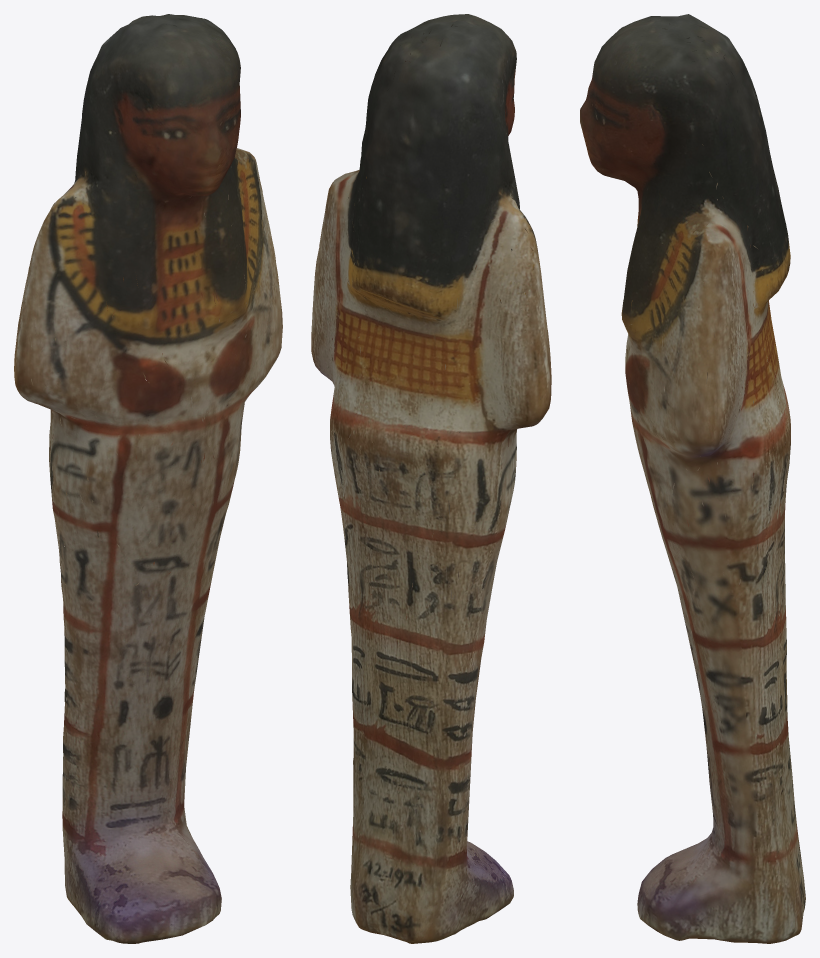
The model's file is shawabti-ramose.glb.
3 views of the same model, side by side, from view 1: azimuth 30°, elevation 25°; view 2: azimuth 150°, elevation 25°; view 3: azimuth 270°, elevation 25° (orthographic). The views are drawn at different scales.
Parts seen in each view (by area): view 1: Object_2, Object_3; view 2: Object_2, Object_3; view 3: Object_2, Object_3.
Part boxes in pixels (bbox=[...]): Object_2: bbox=[14, 14, 282, 943]; Object_3: bbox=[14, 14, 281, 598]; Object_2: bbox=[311, 20, 549, 943]; Object_3: bbox=[311, 14, 551, 627]; Object_2: bbox=[621, 22, 805, 943]; Object_3: bbox=[580, 14, 790, 620].
Bounding box in the file's own units: 10.49 × 35.87 × 8.18.
Materials: 1 (1 with a texture image).
